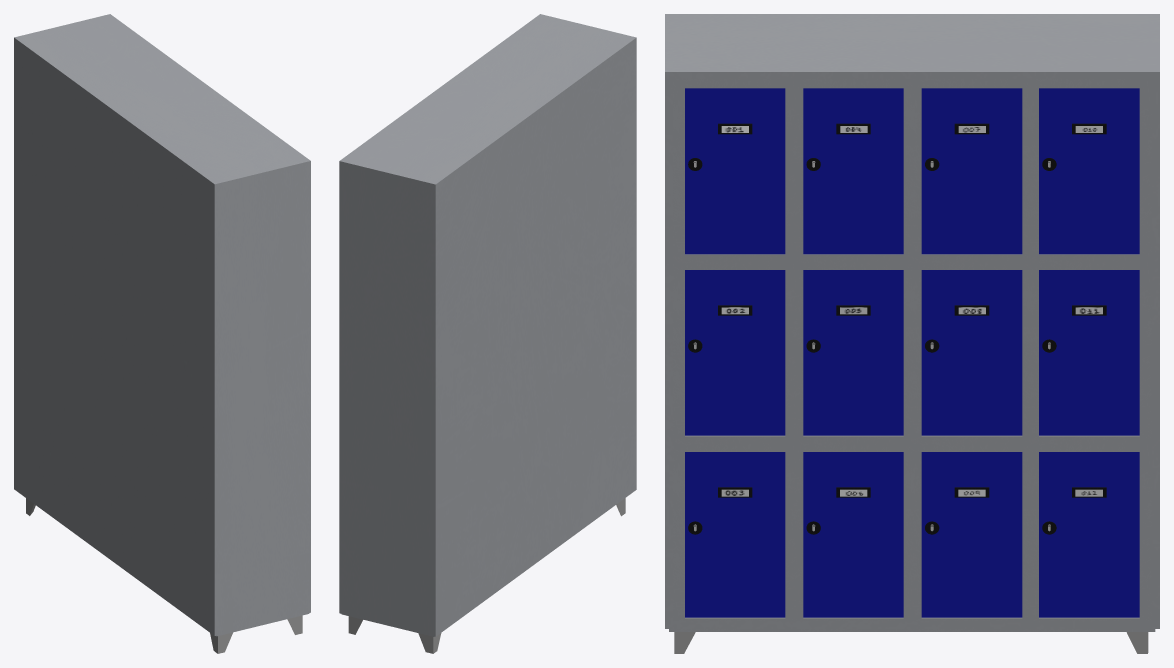
File: conjuntoTaquillas.fbx
3 views of the same model, side by side, from view 1: azimuth 30°, elevation 25°; view 2: azimuth 150°, elevation 25°; view 3: azimuth 270°, elevation 25° (orthographic). The views are drawn at different scales.
Parts seen in each view (by area): view 1: Cubo.003; view 2: Cubo.003; view 3: Cubo.003, Tapa.013, Tapa.002, Tapa.009, Tapa.014, Tapa.011, Tapa.012, Tapa.010, Tapa.001, Tapa.006, Tapa.008, Tapa (+13 smaller).
Part boxes in pixels (x1,y1,x2,y2): Cubo.003: (14, 14, 310, 635); Cubo.003: (339, 14, 636, 636); Cubo.003: (665, 14, 1159, 628); Tapa.013: (921, 88, 1022, 254); Tapa.002: (921, 452, 1022, 617); Tapa.009: (921, 270, 1022, 435); Tapa.014: (803, 88, 903, 254); Tapa.011: (685, 88, 785, 254); Tapa.012: (1039, 88, 1139, 254); Tapa.010: (803, 270, 903, 435); Tapa.001: (803, 452, 903, 617); Tapa.006: (1039, 452, 1139, 617); Tapa.008: (1039, 270, 1139, 435); Tapa: (685, 452, 785, 617).
Size of the model in its own units: 210 by 976 by 749.
Materials: 17 (14 with a texture image).
